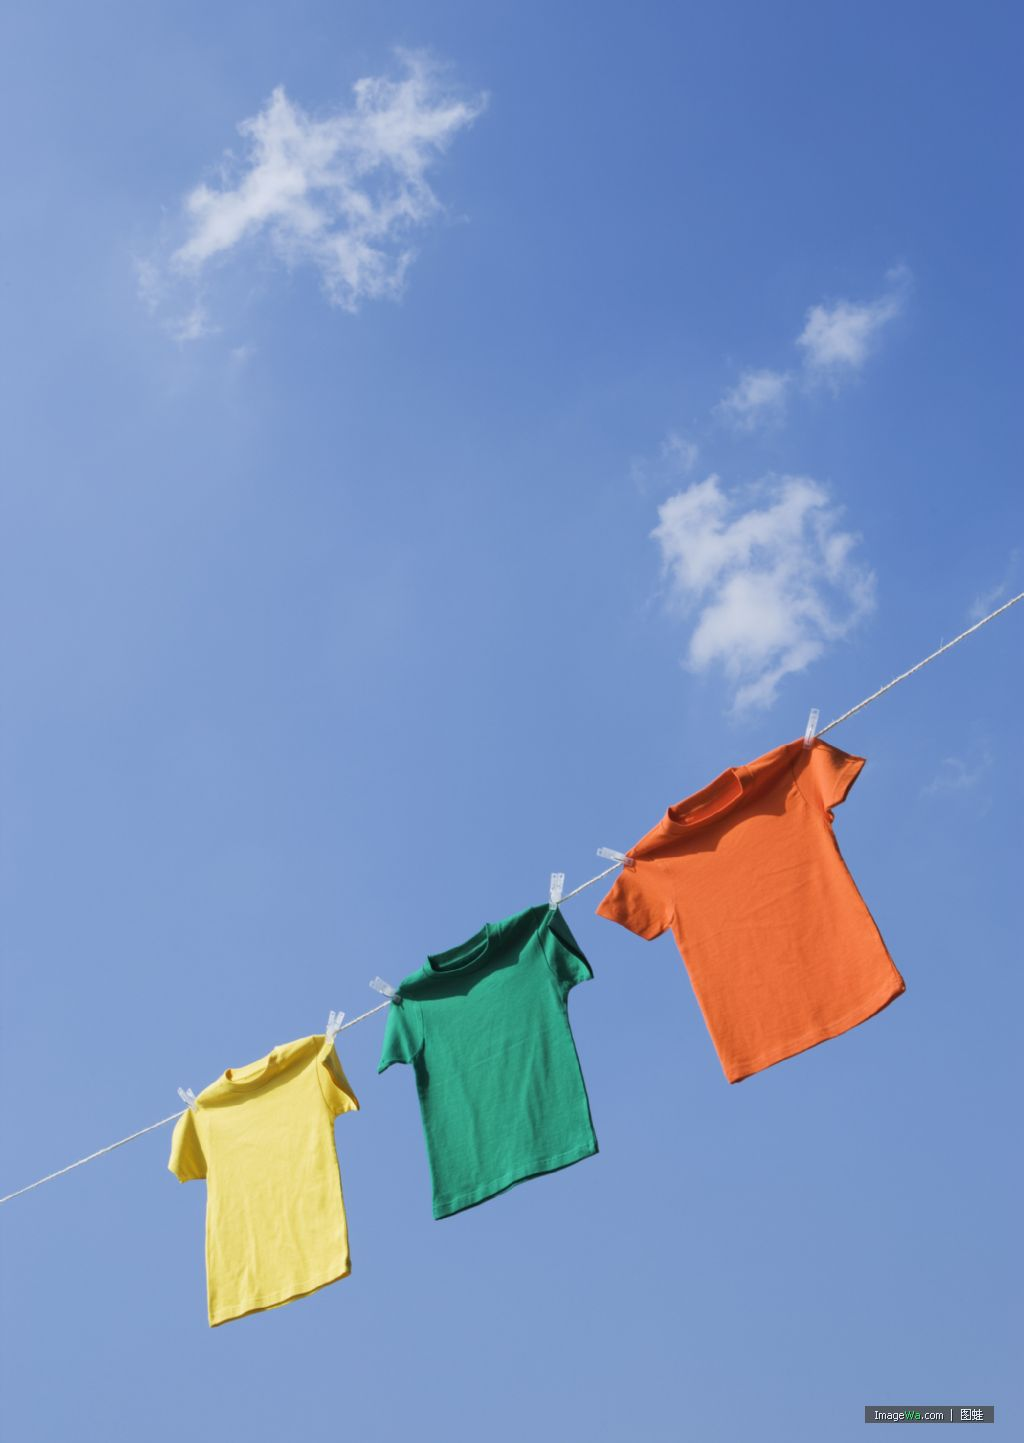flexible: (603, 740, 914, 1076), (380, 899, 603, 1212), (171, 1028, 367, 1326)
